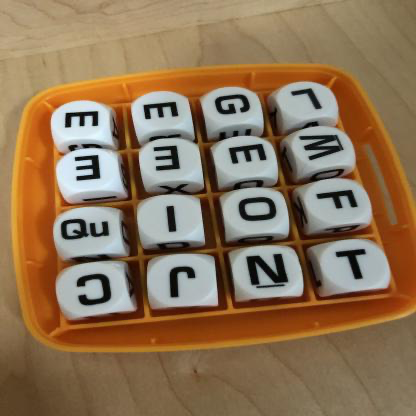c: (61, 263, 126, 316)
e: (63, 150, 118, 192), (142, 142, 198, 181), (217, 141, 272, 178), (136, 94, 189, 132), (58, 105, 107, 140)
f: (304, 181, 370, 226)
g: (205, 89, 256, 127)
i: (142, 198, 199, 242)
j: (152, 259, 214, 309)
l: (279, 83, 336, 123)
n: (233, 248, 298, 298)
o: (224, 192, 289, 234)
qu: (58, 210, 118, 252)
t: (323, 243, 388, 294)
w: (295, 129, 353, 169)
